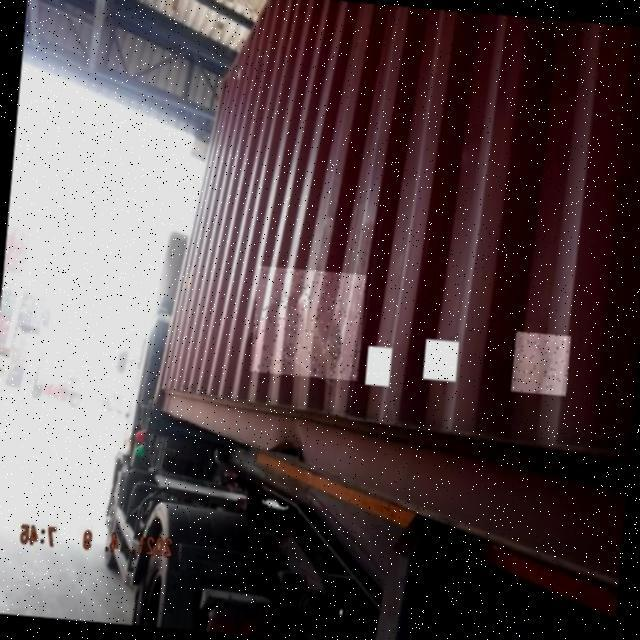Dent: (249, 266, 366, 381)
Minor-Dent: (511, 332, 571, 397)
